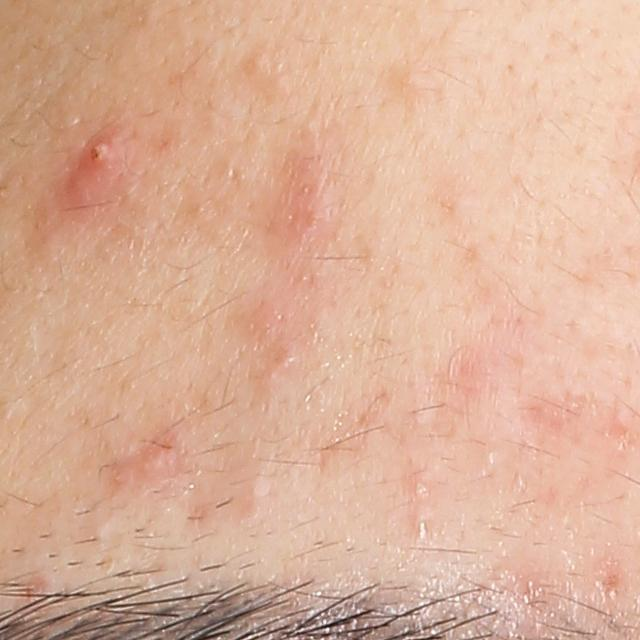comedo: (392, 61, 435, 97), (237, 49, 275, 88), (408, 474, 438, 504)
papule: (136, 439, 181, 485), (270, 340, 304, 377)
pustule: (72, 125, 129, 191)
